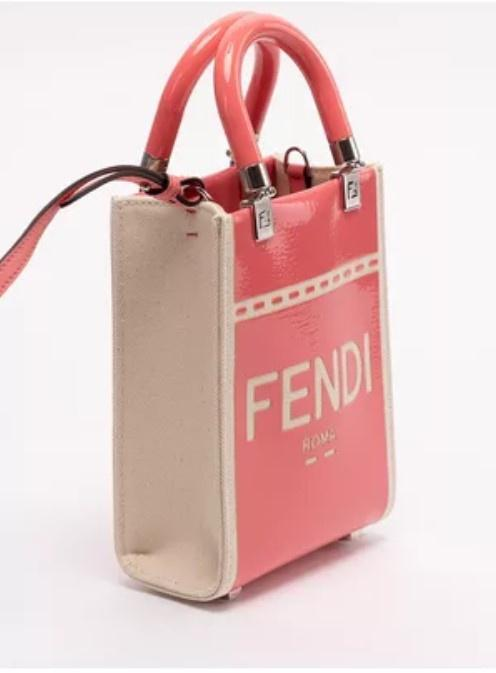FENDI: (246, 331, 372, 441)
